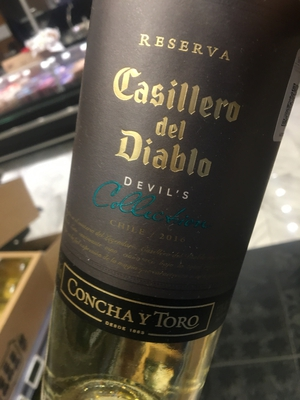casillero del diablo devils collection verde: (57, 4, 294, 400)
